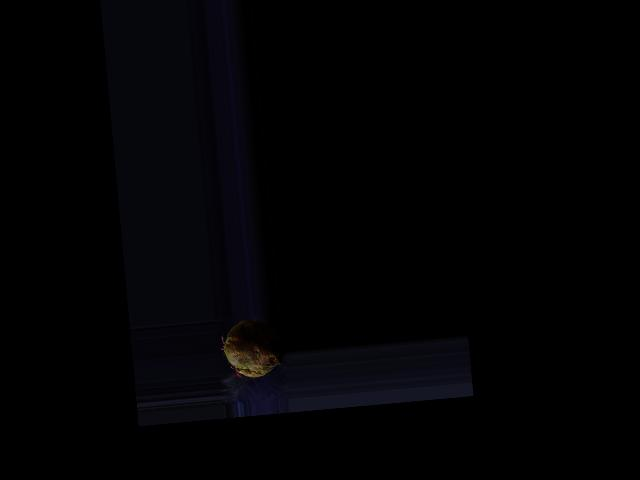beet: (219, 317, 285, 380)
